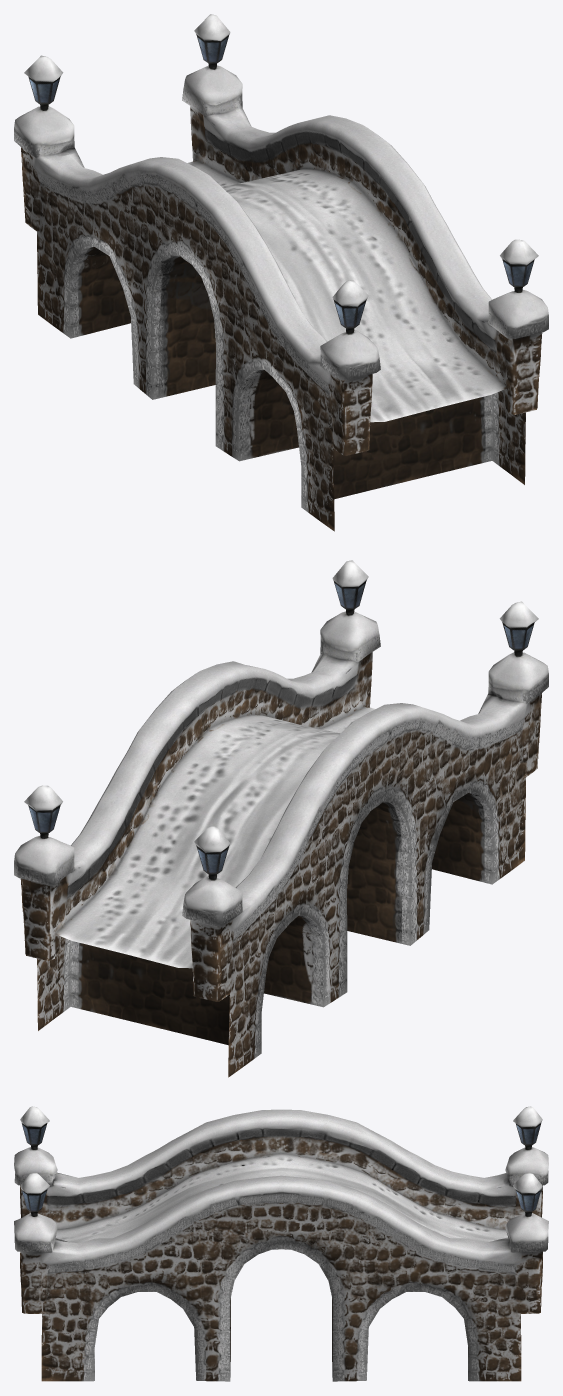
The model's file is Bridge.obj.
The picture shows the model from 3 angles, top to bottom: view 1: azimuth 30°, elevation 25°; view 2: azimuth 150°, elevation 25°; view 3: azimuth 270°, elevation 25°; orthographic projection. The views are drawn at different scales.
Visible parts, largest first — view 1: Bridge; view 2: Bridge; view 3: Bridge.
Part boxes in pixels (x1,y1,x2,y2): Bridge: (14, 14, 548, 531); Bridge: (14, 560, 548, 1077); Bridge: (14, 1106, 548, 1381).
Size of the model in its own units: 1.47 by 1.65 by 3.92.
